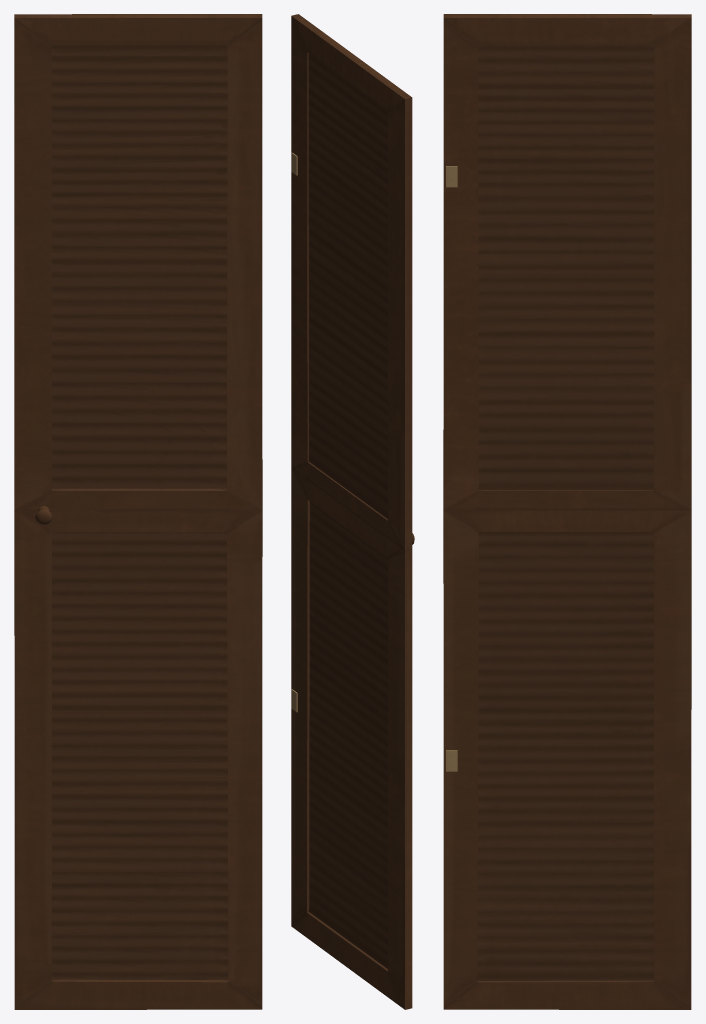
File: SM_Cabinets_B1_Door4.fbx
3 renders of one model, left to right at view 1: azimuth 90°, elevation 25°; view 2: azimuth 210°, elevation 25°; view 3: azimuth 270°, elevation 25°, orthographic. The views are drawn at different scales.
Visible parts, largest first — view 1: SM_Cabinets_B1_Door4; view 2: SM_Cabinets_B1_Door4; view 3: SM_Cabinets_B1_Door4.
Part boxes in pixels (<box>): SM_Cabinets_B1_Door4: <box>14,14,262,1009</box>; SM_Cabinets_B1_Door4: <box>291,14,414,1009</box>; SM_Cabinets_B1_Door4: <box>443,14,691,1009</box>.
Size of the model in its own units: 5.19 by 46.08 by 203.
Materials: 2 (2 with a texture image).
